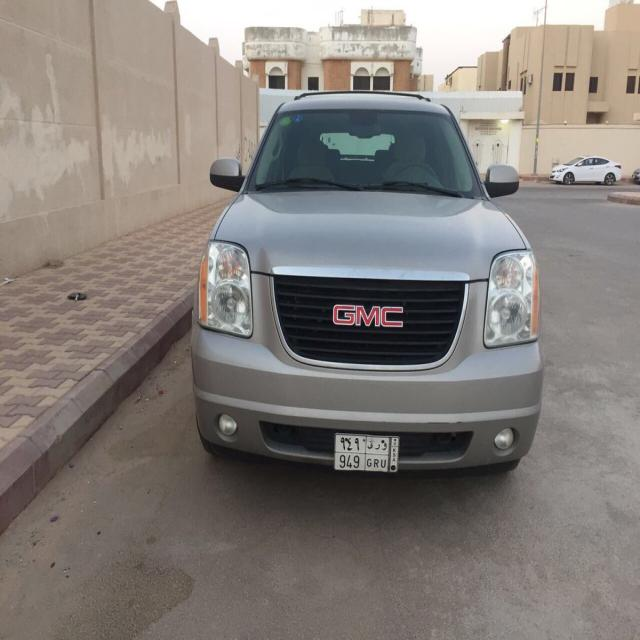license_plate: (332, 430, 401, 478)
